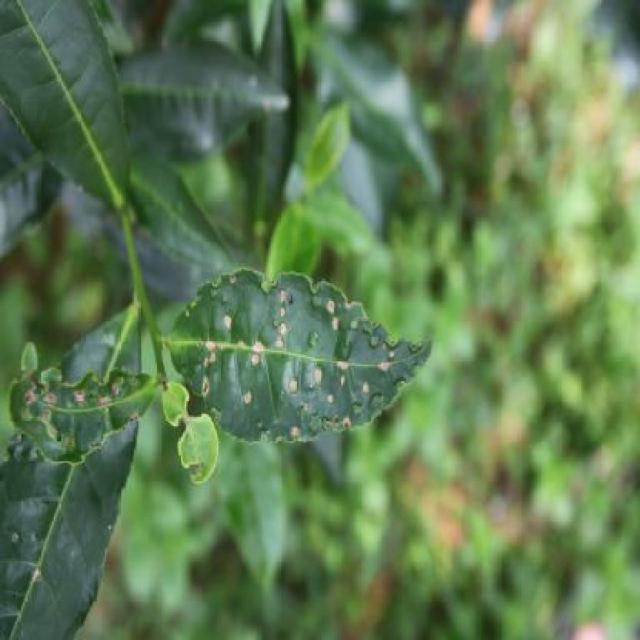Tea Mosquito bug infested leaf: (166, 260, 445, 452), (4, 340, 168, 475)
